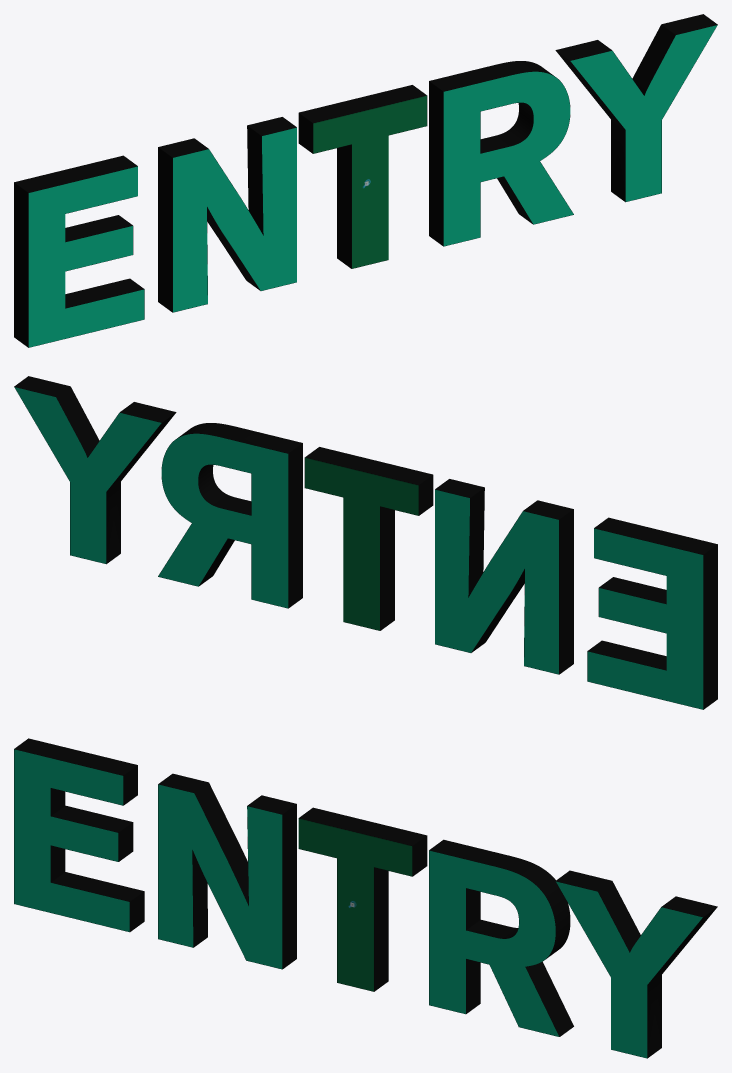
File: Entry_Oct2.gltf
3 views of the same model, one above another, from view 1: azimuth 30°, elevation 25°; view 2: azimuth 150°, elevation 25°; view 3: azimuth 330°, elevation 25° (orthographic).
Size of the model in its own units: 1.31 by 0.2828 by 0.048.
11 materials, 1 textured.
